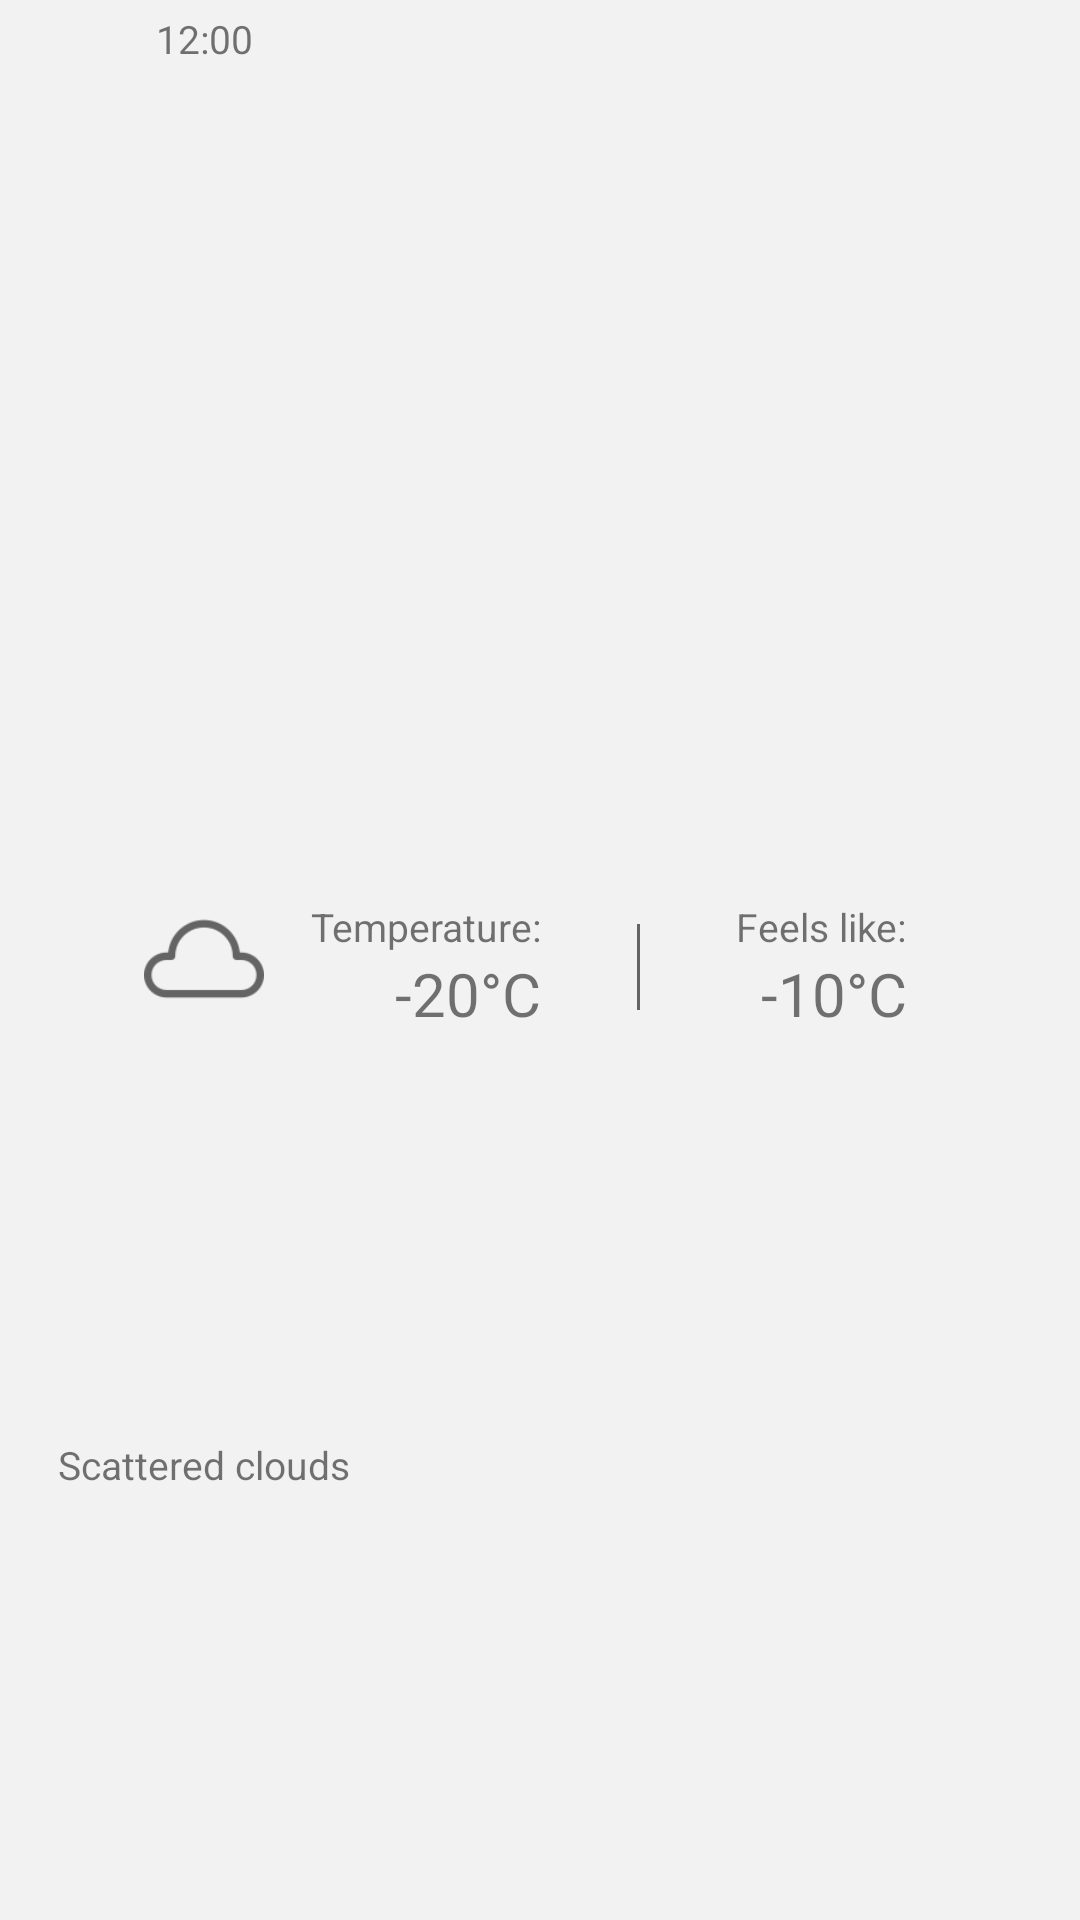

Where to tap for icons on this 1080px×1920px app screen, as [x,y]:
cloud: [204,958]
